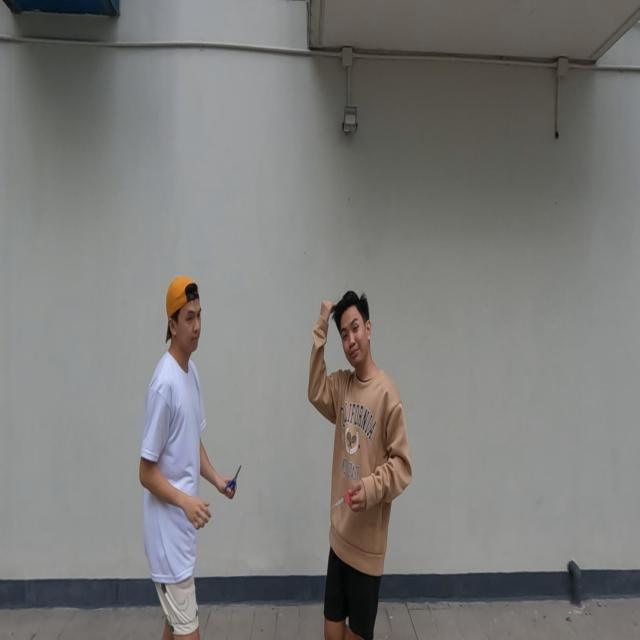scissor: (331, 485, 357, 511), (225, 462, 243, 499)
